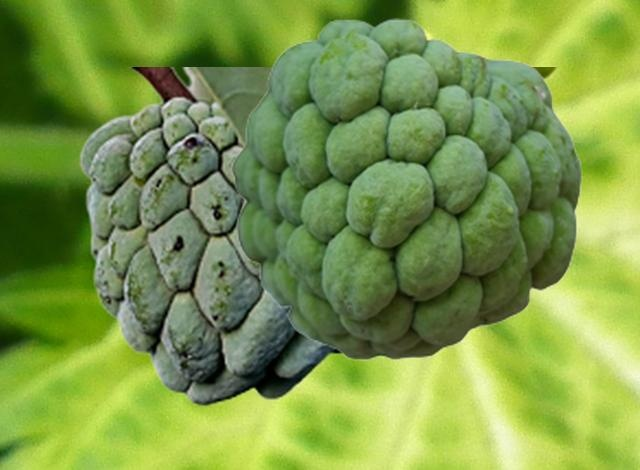atis: (78, 67, 556, 406), (230, 18, 581, 359)
